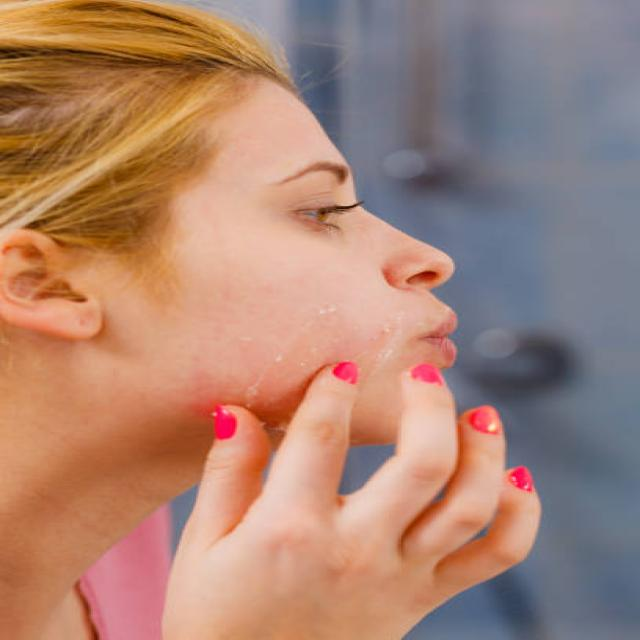Dry-Skin: (199, 222, 397, 392)
